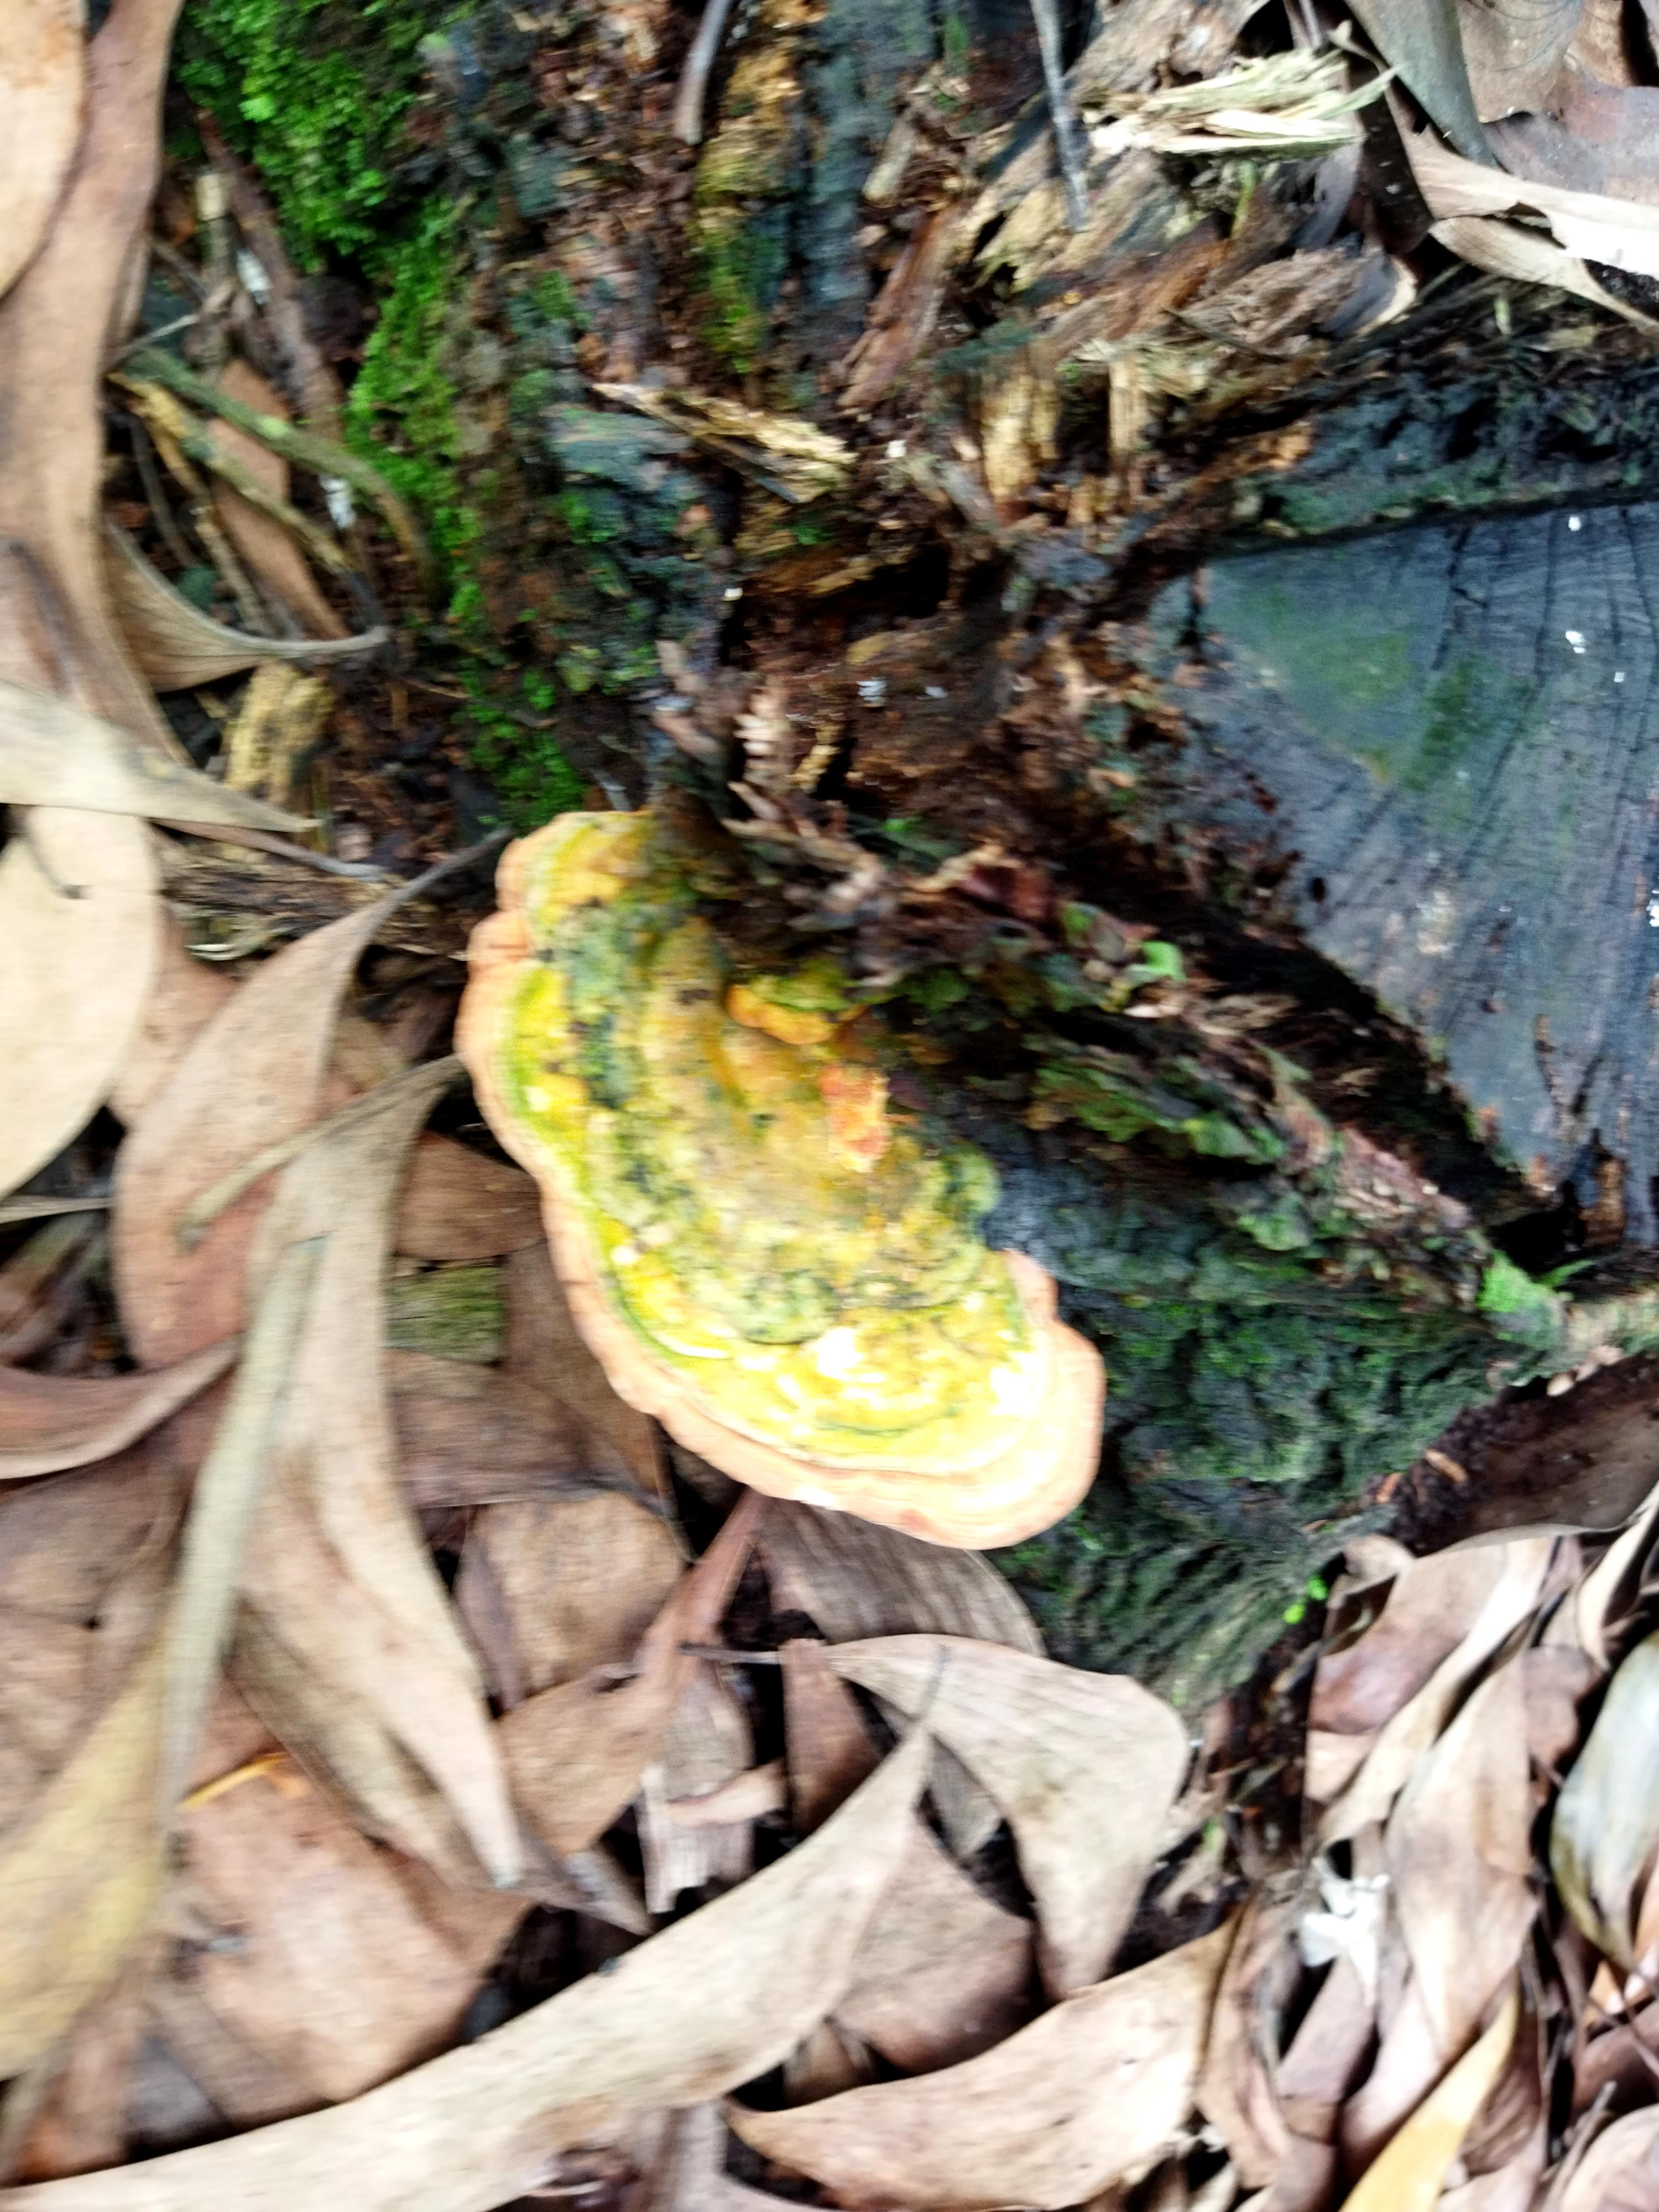Ganoderma - Fruit Body: (471, 808, 1112, 1575)
